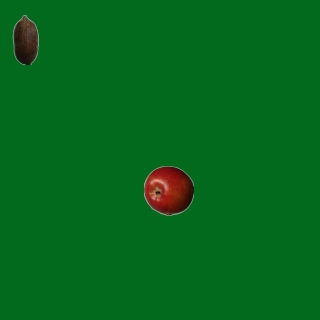Apple Braeburn: (143, 165, 193, 215)
Nut Pecan: (0, 14, 50, 64)
